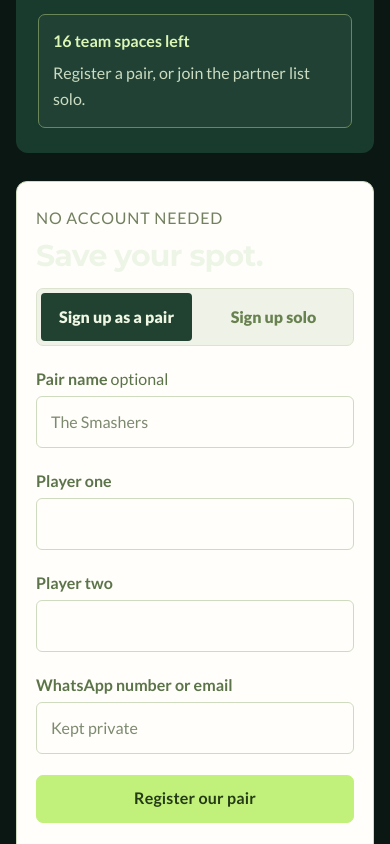
Test: public sign-up loading › updates a successful receipt from the authoritative live roster
The image size is (390, 844).
(page scrolled)
Type "Smashers" into the field labelled "Pair name optional" at (195, 422), box [36,396,354,448]
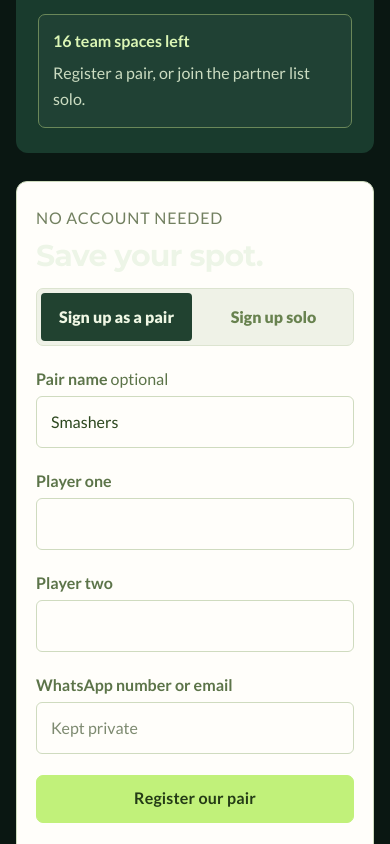
Type "Alex" into the field labelled "Player one" at (195, 524), box [36,498,354,550]
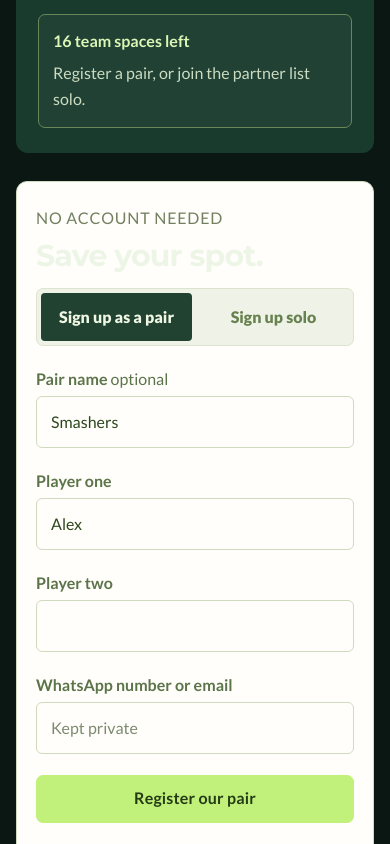
Type "Kriss" into the field labelled "Player two" at (195, 626), box [36,600,354,652]
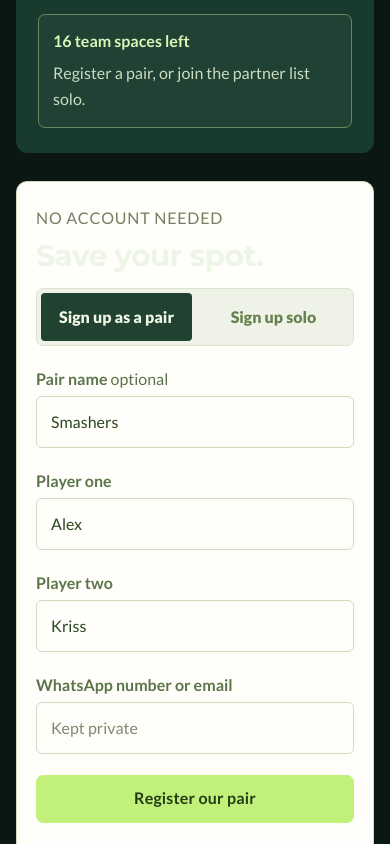
Type "+62123" into the field labelled "WhatsApp number or email" at (195, 728), box [36,702,354,754]
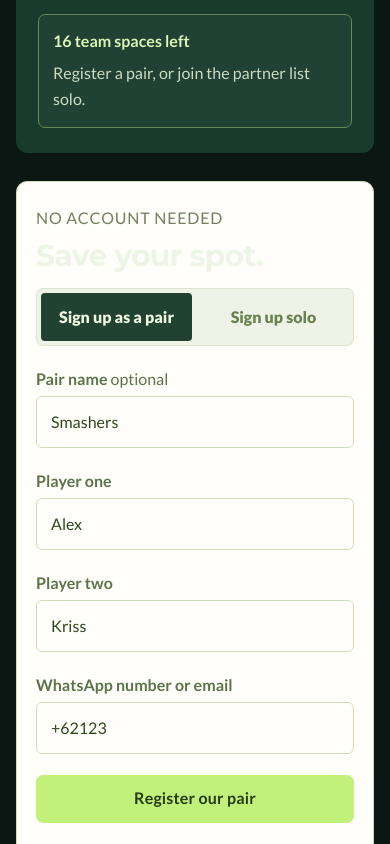
Click the button "Register our pair" at (195, 799), box [36,775,354,823]
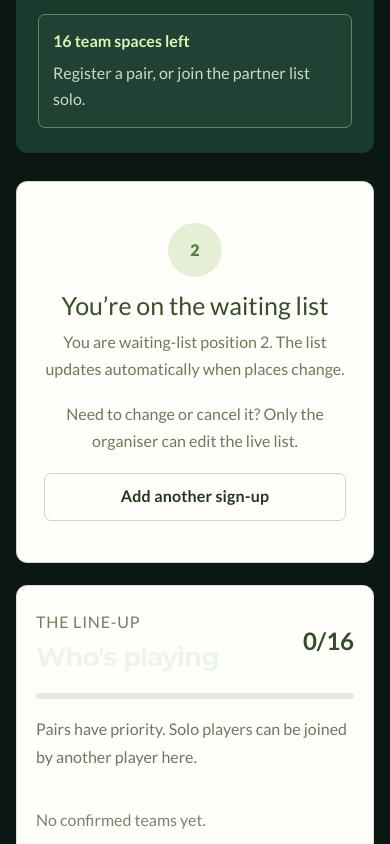
Check: the heading "You’re on the waiting list" is shown, box [44,290,346,320]
Check: the text "position 2" is shown, box [45,332,345,378]
